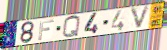4: (83, 12, 101, 37), (111, 9, 125, 32)
8: (20, 21, 35, 44)
F: (38, 19, 56, 42)
Q: (62, 15, 82, 40)
V: (129, 4, 152, 32)
